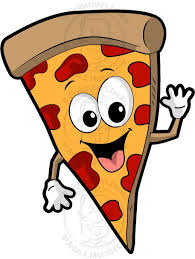pizza: (8, 12, 183, 246)
